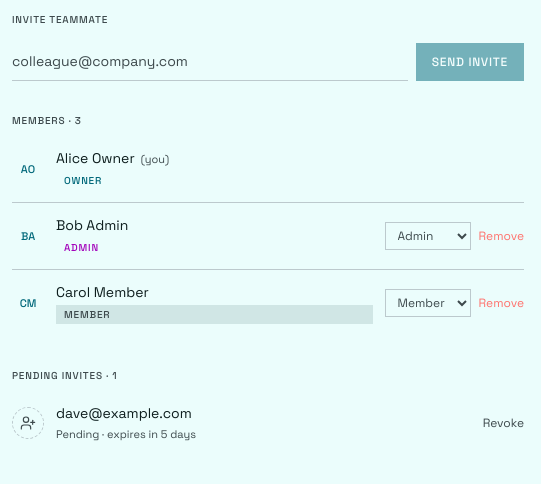
Test: MembersPanel — invite form › shows validation error for invalid email
The width and height of the screenshot is (541, 484).
In the field with placeholder "colleague@company.com": (210,62) [12,43,408,81], type "not-an-email"
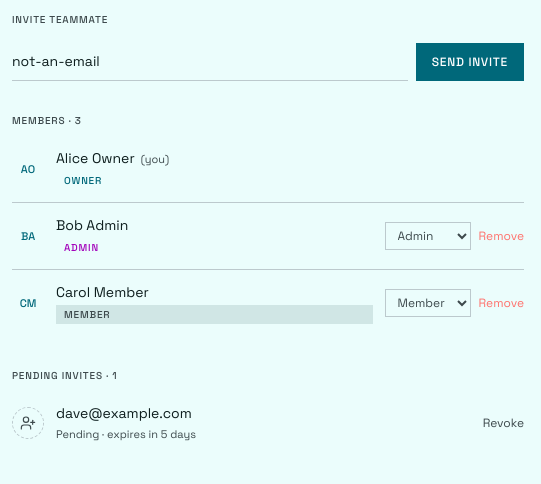
Click the button "Send invite": (470,62) [416,43,524,81]
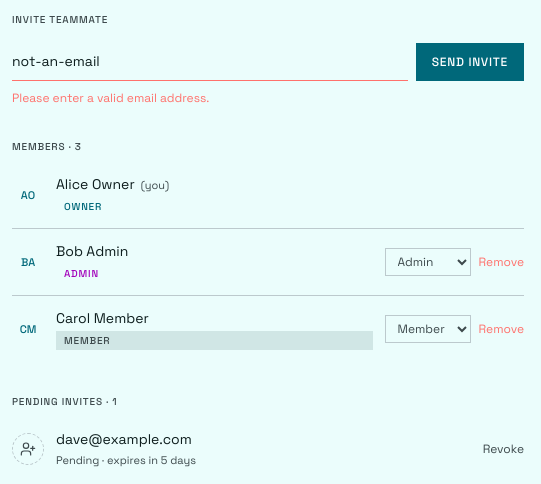
Now the text "Please enter a valid email address." is shown, box [12,90,209,106]
